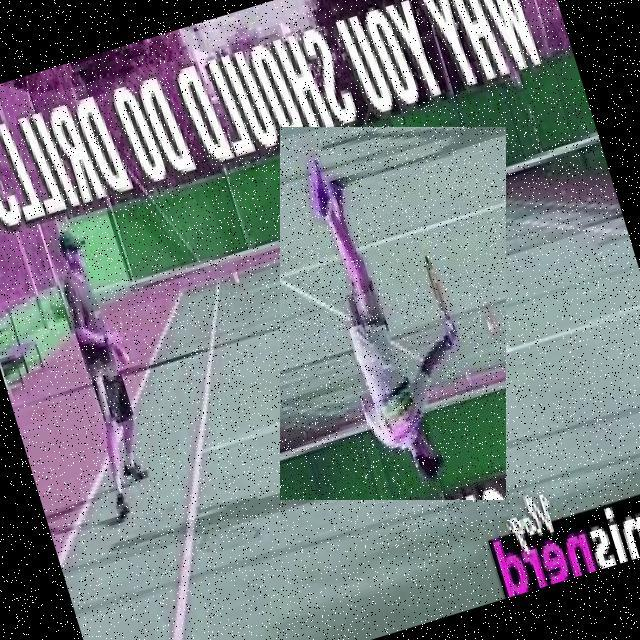player: (280, 128, 506, 502)
